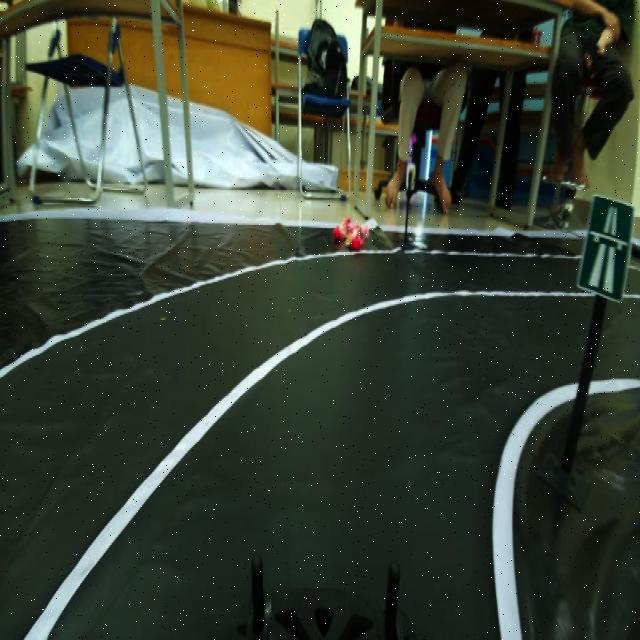highway_entry: (578, 192, 627, 312)
